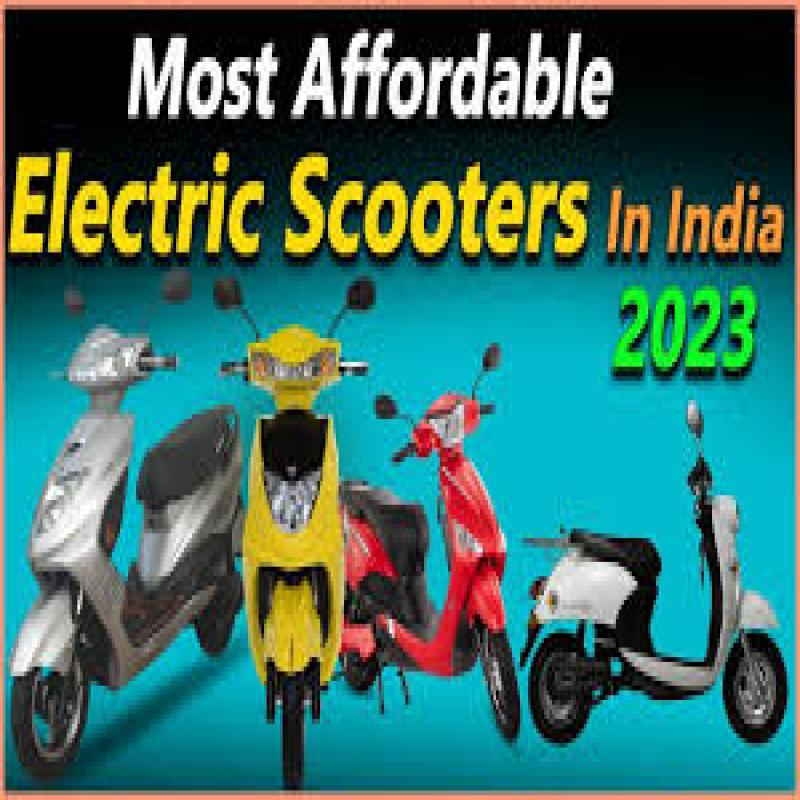bike: (18, 291, 251, 760), (530, 390, 789, 760), (209, 251, 383, 793), (329, 350, 540, 776)
